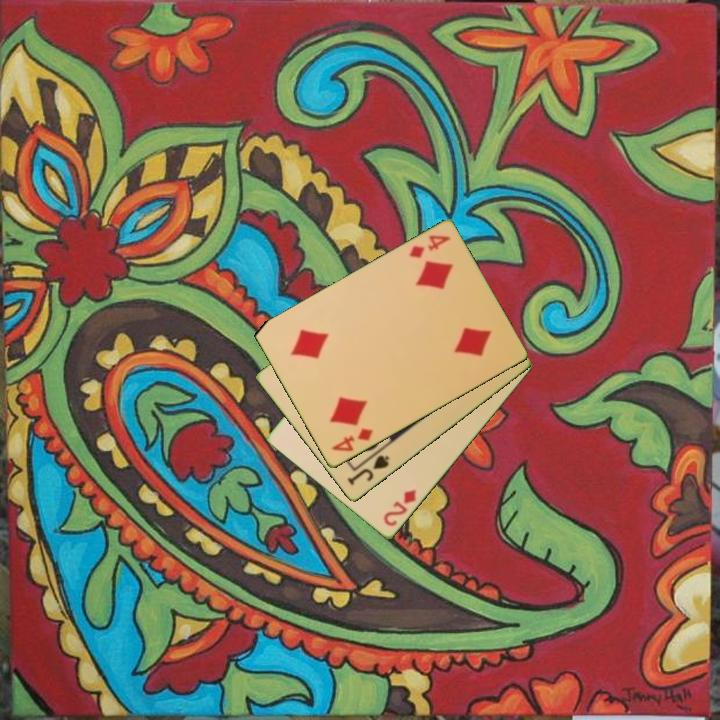2d: (380, 486, 419, 530)
4d: (328, 425, 376, 455), (406, 232, 453, 262)
Js: (343, 452, 392, 489)
